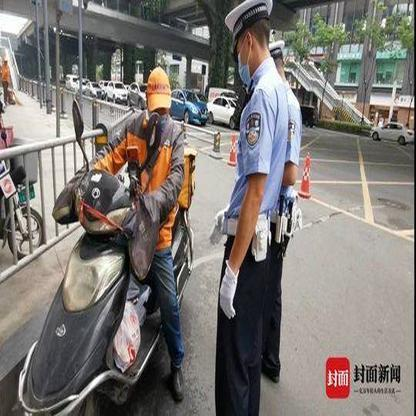target: (16, 64, 193, 410)
